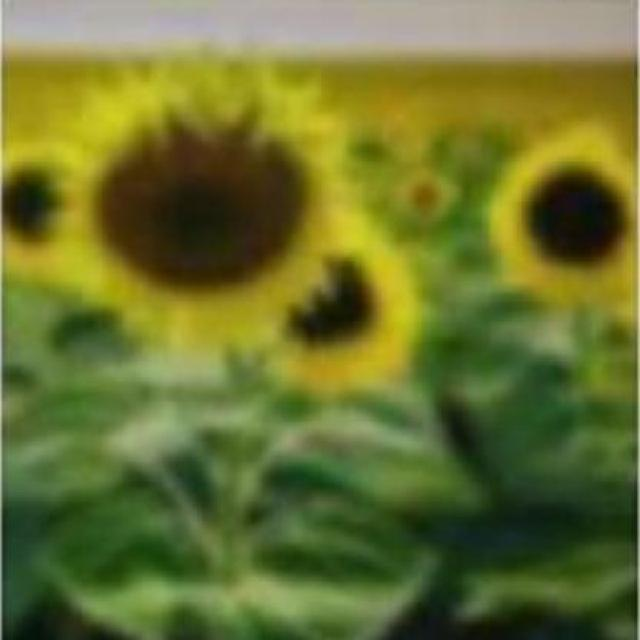sunflower: (36, 38, 371, 365), (491, 132, 640, 298)
